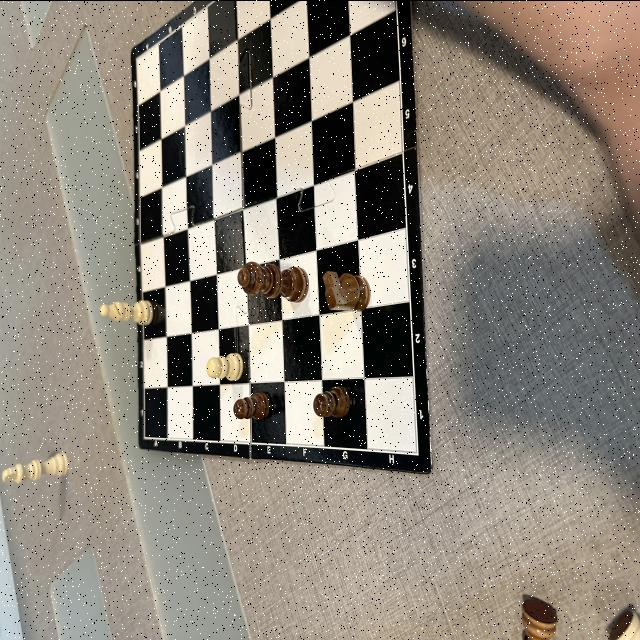Black-Knight: (322, 269, 370, 311)
Black-Pawn: (312, 384, 350, 416), (234, 392, 270, 418)
Black-Queen: (236, 262, 308, 300)
White-Bishop: (100, 300, 153, 324)
White-King: (1, 454, 66, 482)
White-Pawn: (206, 352, 243, 378)
